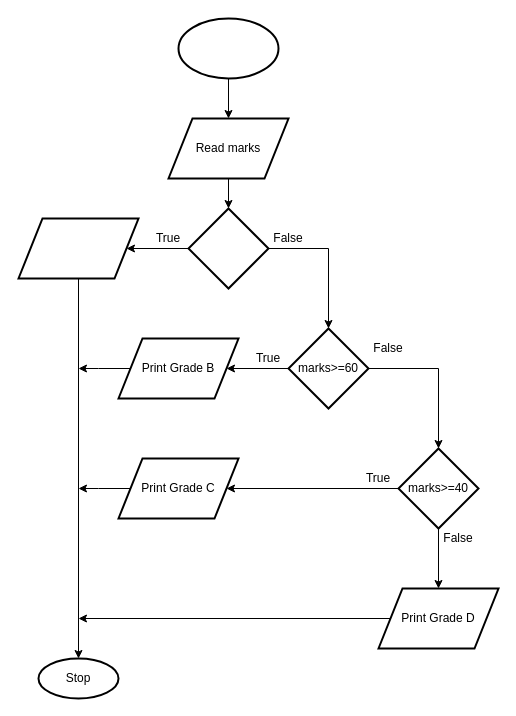
Image size: 516x716. Some labels were removed from this diagram. Here are the shapes that lost their labels. From the top down, the centre of each, then its label:
At point (228, 48): "Start".
At point (78, 248): "Print Grade A".
At point (228, 248): "marks>=80".
